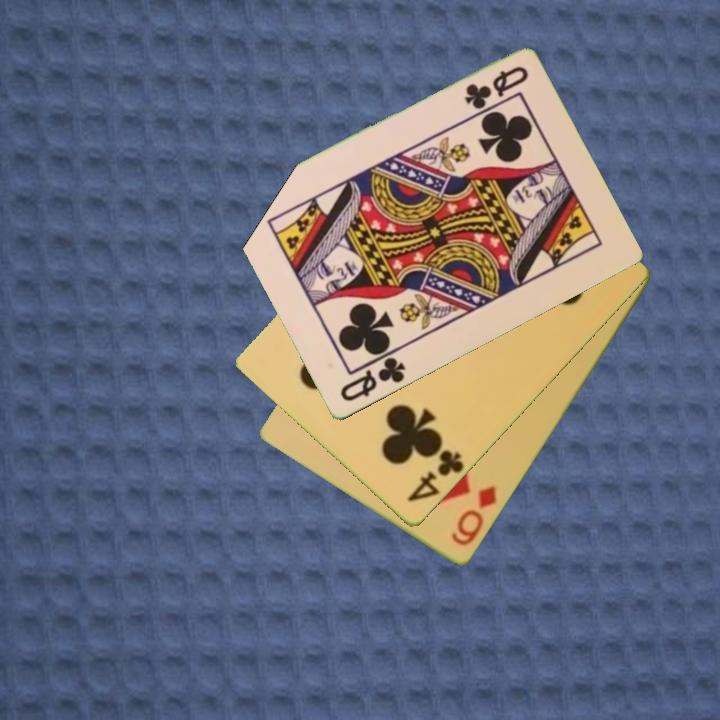4c: (403, 446, 467, 506)
6d: (447, 483, 501, 550)
Qc: (336, 347, 409, 405), (460, 63, 531, 112)
